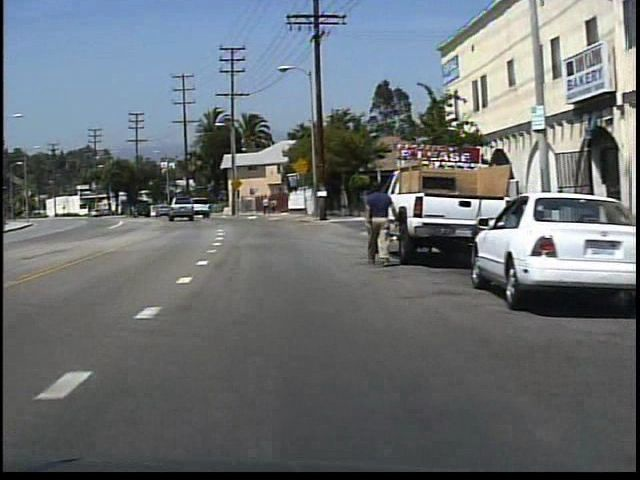person: (357, 179, 400, 270), (261, 194, 270, 217), (269, 197, 279, 216)
